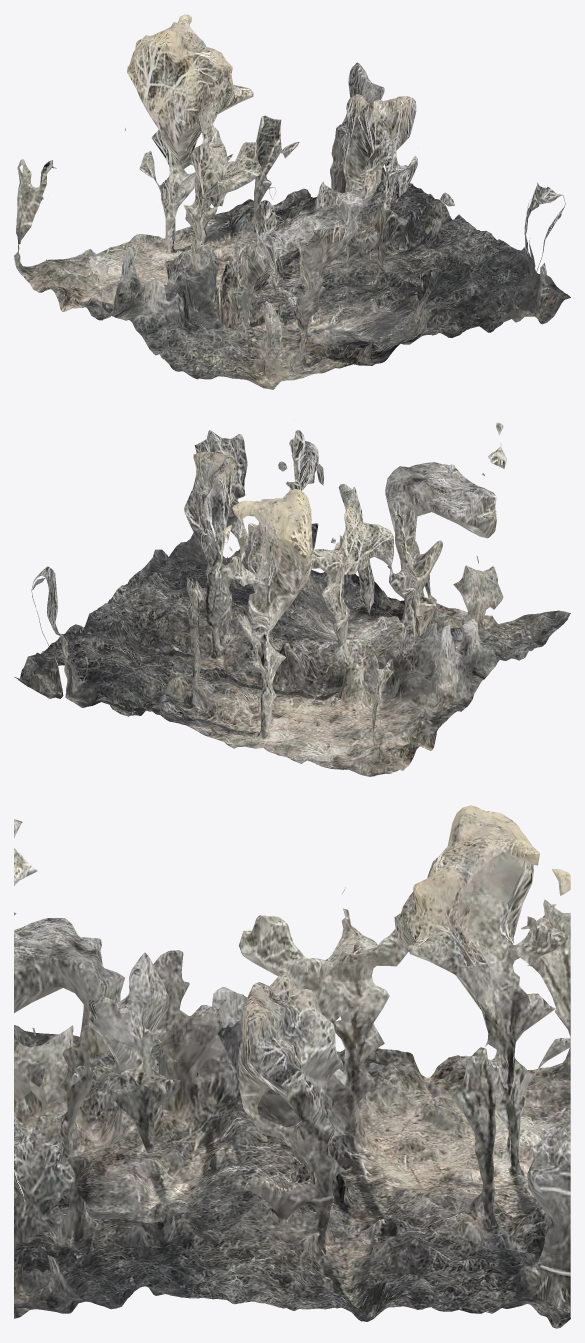
The model's file is Block_L20_327.glb.
3 views of the same model, one above another, from view 1: azimuth 30°, elevation 25°; view 2: azimuth 150°, elevation 25°; view 3: azimuth 270°, elevation 25° (orthographic). The views are drawn at different scales.
Visible parts, largest first — view 1: rtc; view 2: rtc; view 3: rtc.
Part boxes in pixels (bbox=[...]): rtc: bbox=[14, 14, 570, 389]; rtc: bbox=[14, 422, 570, 776]; rtc: bbox=[14, 805, 570, 1328].
Bounding box in the file's own units: 20.11 × 12.57 × 17.65.
4 materials, 4 textured.
